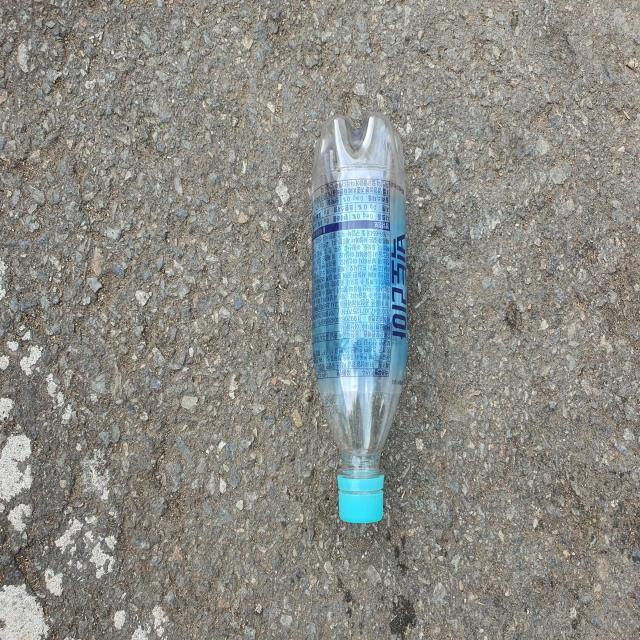plastic: (312, 113, 408, 524)
